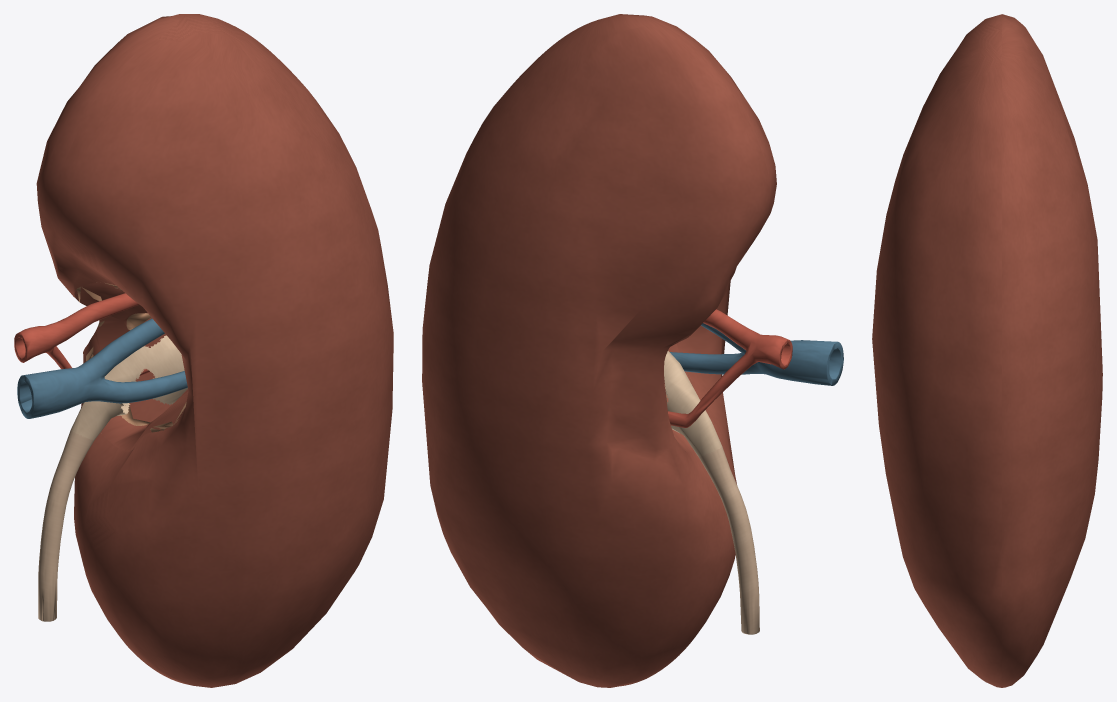
Rendered from overview.glb.
The picture shows the model from 3 angles, left to right: view 1: azimuth 30°, elevation 25°; view 2: azimuth 150°, elevation 25°; view 3: azimuth 270°, elevation 25°; orthographic projection. The views are drawn at different scales.
Visible parts, largest first — view 1: kidney; view 2: kidney; view 3: kidney.
Part boxes in pixels (x1,y1,x2,y2): kidney: [14, 14, 393, 687]; kidney: [422, 14, 843, 687]; kidney: [872, 14, 1102, 687].
Size of the model in its own units: 0.0628 by 0.1064 by 0.0352.
Materials: 6 (6 with a texture image).
